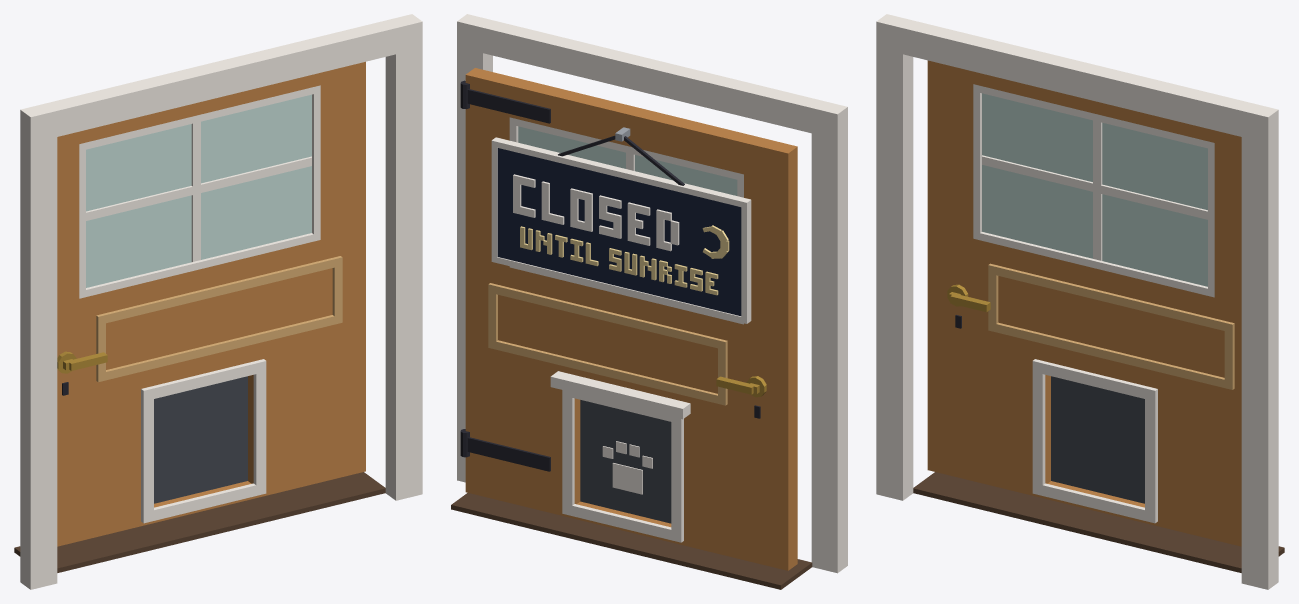
Rendered from CatCafe_Plot_BackDoor.glb.
The picture shows the model from 3 angles, left to right: view 1: azimuth 30°, elevation 25°; view 2: azimuth 150°, elevation 25°; view 3: azimuth 330°, elevation 25°; orthographic projection. The views are drawn at different scales.
Parts seen in each view (by area): view 1: CatCafe_Plot_BackDoor_Leaf, CatCafe_Plot_BackDoor, CatCafe_Plot_BackDoor_Leaf_Glass, CatCafe_Plot_BackDoor_Flap, CatCafe_Plot_BackDoor_FlapFrame; view 2: CatCafe_Plot_BackDoor_Leaf, CatCafe_Plot_BackDoor, CatCafe_Plot_BackDoor_Sign, CatCafe_Plot_BackDoor_Flap, CatCafe_Plot_BackDoor_FlapFrame, CatCafe_Plot_BackDoor_Sign_Bulb, CatCafe_Plot_BackDoor_Leaf_Glass; view 3: CatCafe_Plot_BackDoor_Leaf, CatCafe_Plot_BackDoor, CatCafe_Plot_BackDoor_Leaf_Glass, CatCafe_Plot_BackDoor_Flap, CatCafe_Plot_BackDoor_FlapFrame.
Boxes of the visible parts, x1=… form: CatCafe_Plot_BackDoor_Leaf: x1=57, y1=61, x2=365, y2=546; CatCafe_Plot_BackDoor: x1=14, y1=14, x2=422, y2=589; CatCafe_Plot_BackDoor_Leaf_Glass: x1=86, y1=94, x2=311, y2=287; CatCafe_Plot_BackDoor_Flap: x1=154, y1=376, x2=247, y2=503; CatCafe_Plot_BackDoor_FlapFrame: x1=141, y1=359, x2=266, y2=523; CatCafe_Plot_BackDoor_Leaf: x1=460, y1=68, x2=797, y2=570; CatCafe_Plot_BackDoor: x1=451, y1=14, x2=847, y2=589; CatCafe_Plot_BackDoor_Sign: x1=491, y1=127, x2=751, y2=323; CatCafe_Plot_BackDoor_Flap: x1=580, y1=400, x2=671, y2=523; CatCafe_Plot_BackDoor_FlapFrame: x1=550, y1=371, x2=690, y2=542; CatCafe_Plot_BackDoor_Sign_Bulb: x1=513, y1=174, x2=729, y2=295; CatCafe_Plot_BackDoor_Leaf_Glass: x1=518, y1=126, x2=737, y2=195; CatCafe_Plot_BackDoor_Leaf: x1=927, y1=60, x2=1241, y2=546; CatCafe_Plot_BackDoor: x1=876, y1=14, x2=1284, y2=589; CatCafe_Plot_BackDoor_Leaf_Glass: x1=982, y1=93, x2=1207, y2=286; CatCafe_Plot_BackDoor_Flap: x1=1051, y1=376, x2=1144, y2=503; CatCafe_Plot_BackDoor_FlapFrame: x1=1032, y1=359, x2=1157, y2=523.
Bounding box in the file's own units: 6.9 × 7.95 × 1.3.
1 material, 1 textured.
